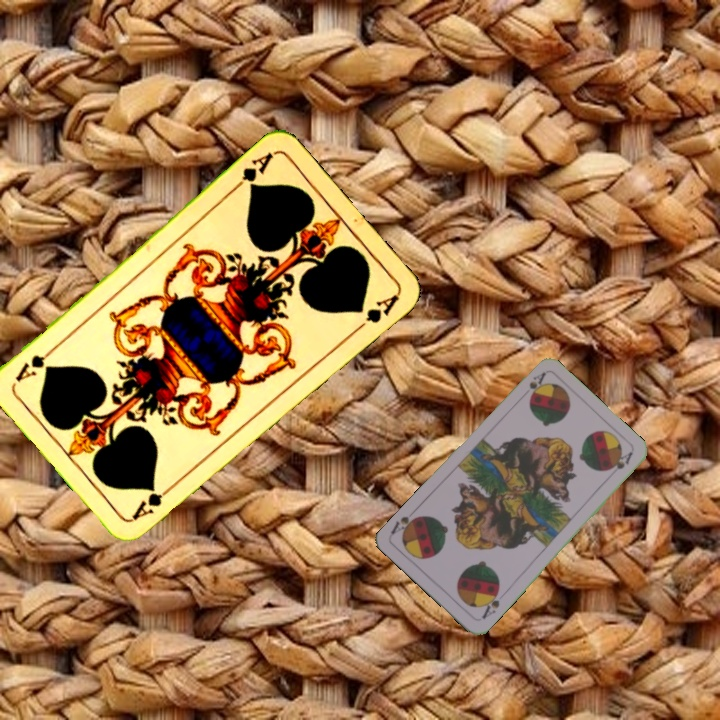GA: (128, 479, 178, 523), (228, 148, 276, 193)
SA: (517, 368, 548, 402), (477, 585, 502, 622)
